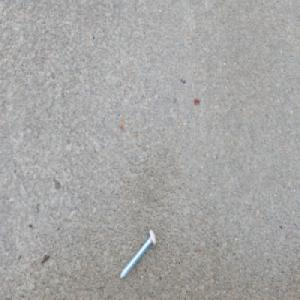Nail: (118, 228, 157, 281)
